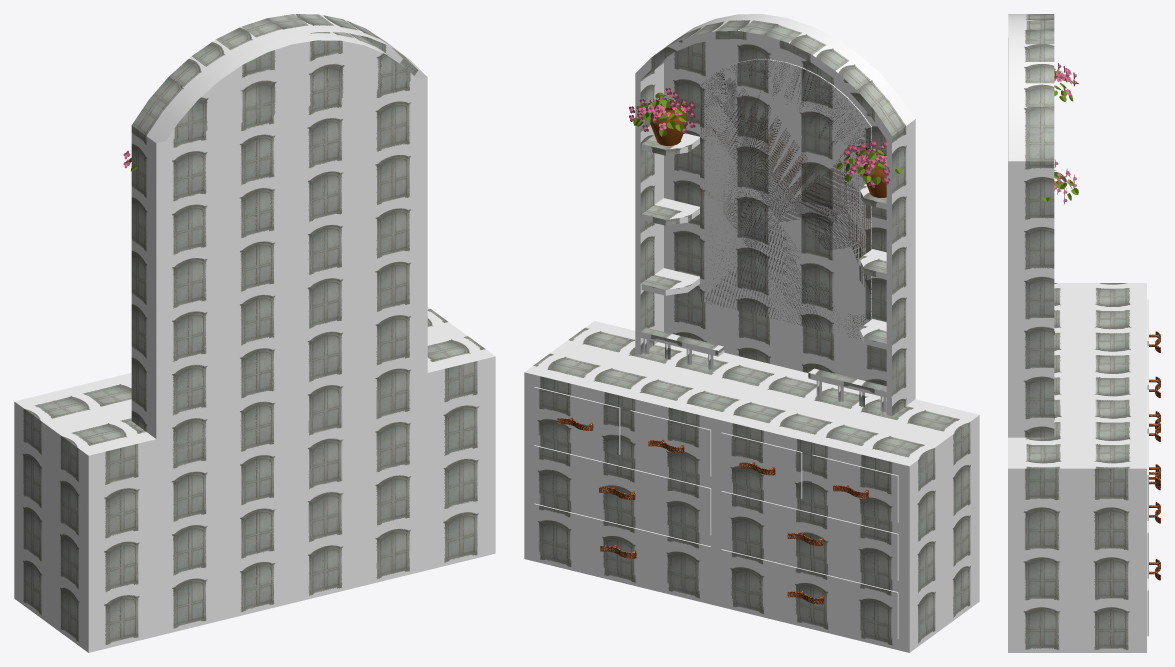
3 renders of one model, left to right at view 1: azimuth 30°, elevation 25°; view 2: azimuth 150°, elevation 25°; view 3: azimuth 270°, elevation 25°, orthographic. The views are drawn at different scales.
Visible parts, largest first — view 1: mesh9_mesh9-geometry; view 2: mesh9_mesh9-geometry, mesh59_mesh59-geometry, mesh58_mesh58-geometry, mesh56_mesh56-geometry, mesh55_mesh55-geometry, mesh57_mesh57-geometry, mesh52_mesh52-geometry, mesh53_mesh53-geometry, mesh13_mesh13-geometry, mesh54_mesh54-geometry, mesh7_mesh7-geometry, mesh14_mesh14-geometry (+11 smaller); view 3: mesh9_mesh9-geometry, mesh7_mesh7-geometry, mesh5_mesh5-geometry, mesh3_mesh3-geometry, mesh8_mesh8-geometry.
Part boxes in pixels (x1,y1,x2,y2): mesh9_mesh9-geometry: (14,14,495,652); mesh9_mesh9-geometry: (524,14,979,652); mesh59_mesh59-geometry: (700,59,871,340); mesh58_mesh58-geometry: (721,549,898,639); mesh56_mesh56-geometry: (534,445,711,535); mesh55_mesh55-geometry: (721,491,898,580); mesh57_mesh57-geometry: (534,503,710,593); mesh52_mesh52-geometry: (812,455,898,522); mesh53_mesh53-geometry: (534,387,620,454); mesh13_mesh13-geometry: (721,432,802,499); mesh54_mesh54-geometry: (630,410,711,476); mesh7_mesh7-geometry: (557,417,868,604); mesh14_mesh14-geometry: (641,198,699,225); mesh9_mesh9-geometry: (1008,14,1146,652); mesh7_mesh7-geometry: (1149,331,1160,580); mesh5_mesh5-geometry: (1054,63,1076,95); mesh3_mesh3-geometry: (1041,170,1078,201); mesh8_mesh8-geometry: (1149,334,1158,564).
Size of the model in its own units: 0.588 by 0.7826 by 0.2046.
